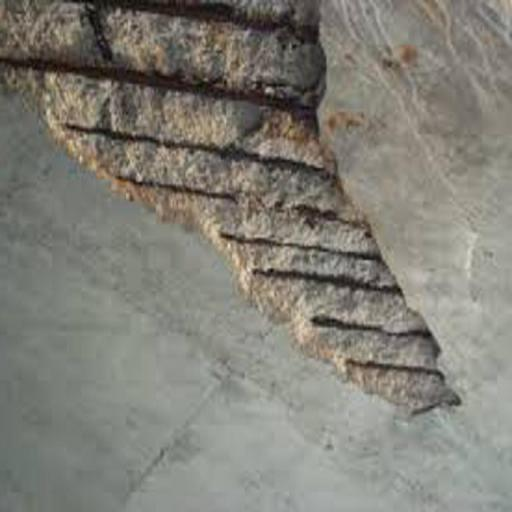spalling: (0, 1, 460, 422)
